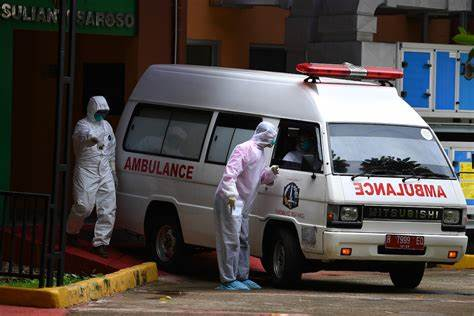ambulance: (113, 48, 467, 276)
